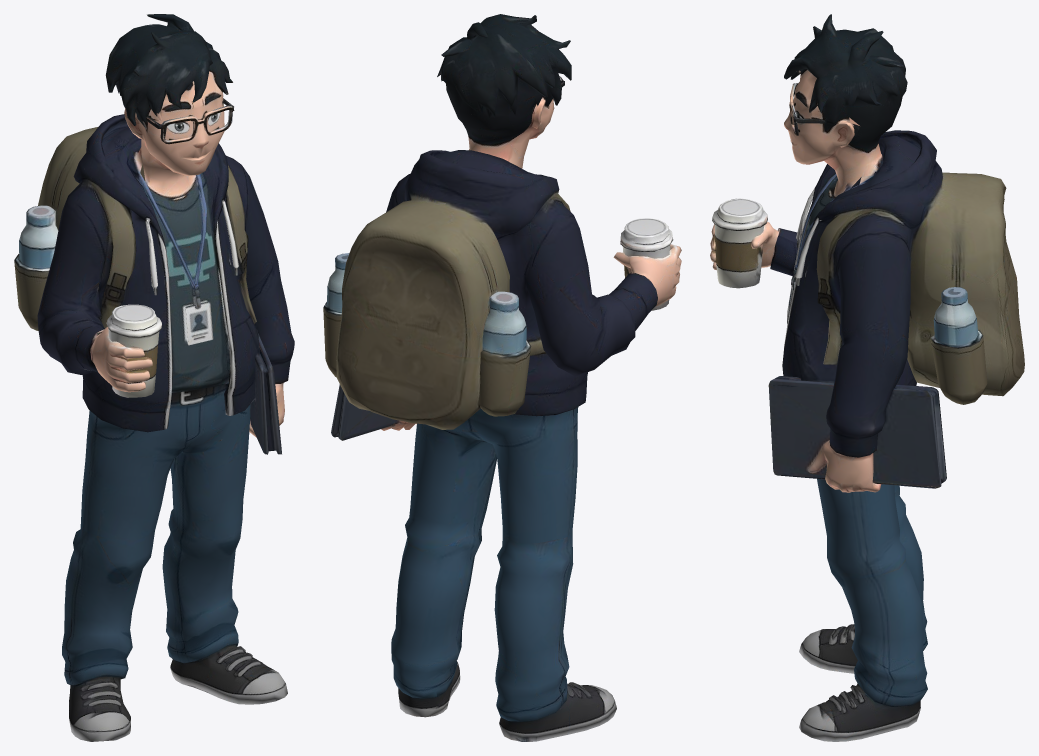
Rendered from informatico.glb.
3 renders of one model, left to right at view 1: azimuth 30°, elevation 25°; view 2: azimuth 150°, elevation 25°; view 3: azimuth 270°, elevation 25°, orthographic. The views are drawn at different scales.
Size of the model in its own units: 0.3613 by 0.9512 by 0.4062.
1 material, 1 textured.
